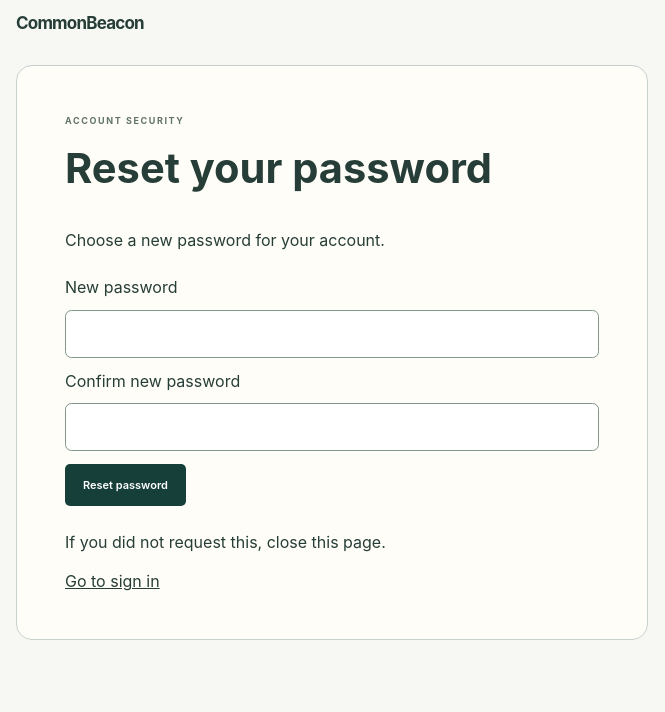
Test: reset requires matching bounded passwords and passes them only after submission
Type "new-password-123" into the password field labelled "New password" at (332, 334), box [65,310,599,358]
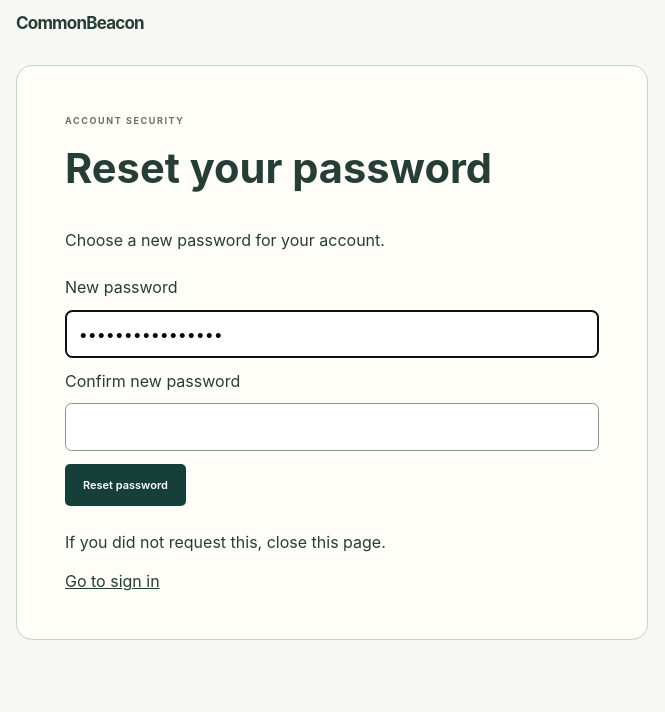
Type "other-password-123" into the password field labelled "Confirm new password" at (332, 427), box [65,403,599,451]
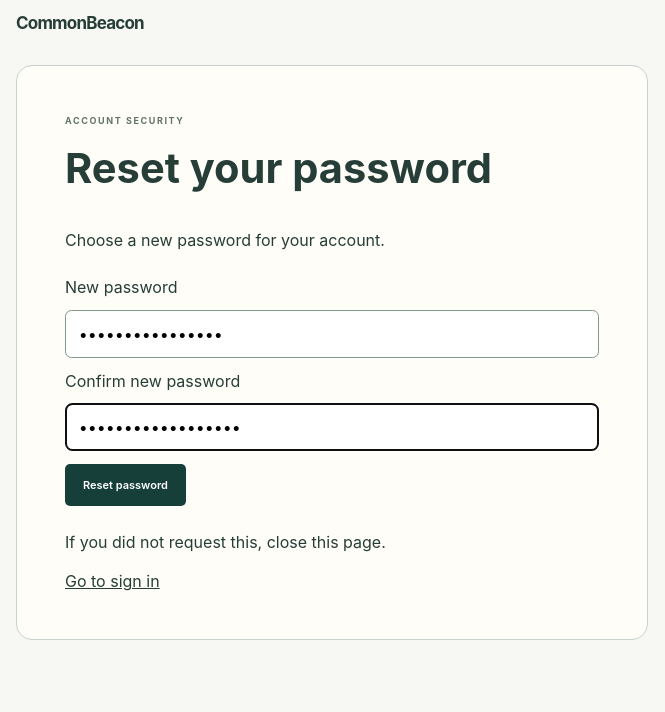
Click the button "Reset password" at (125, 485), box [65,464,186,506]
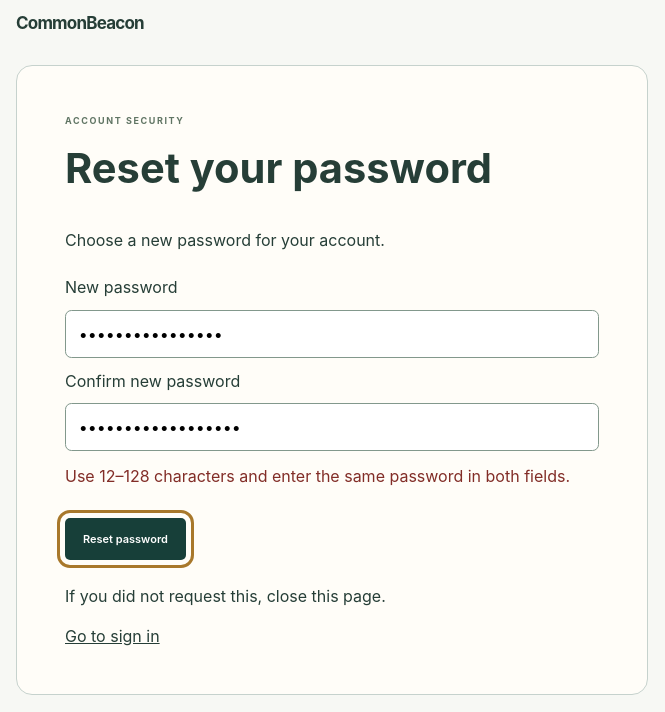
Check: the message shows "same password", box [65,466,570,486]
Type "new-password-123" into the password field labelled "Confirm new password" at (332, 427), box [65,403,599,451]
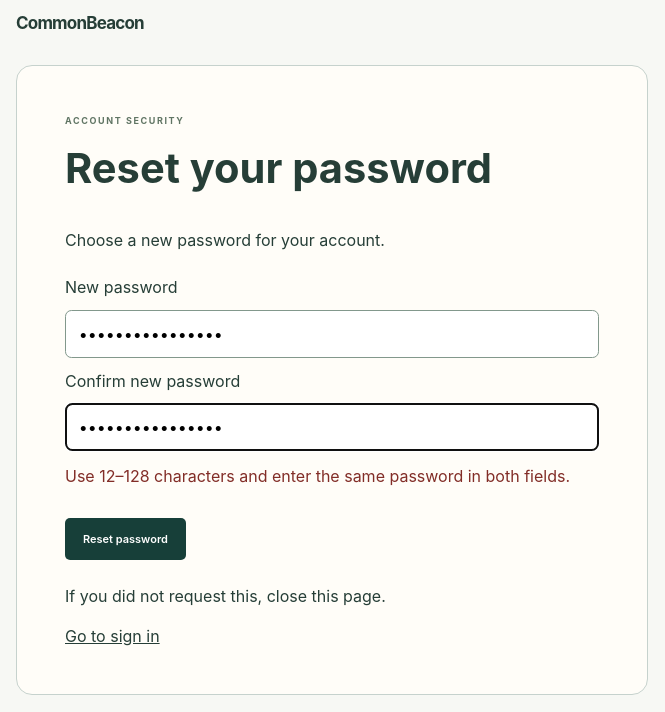
Click the button "Reset password" at (125, 539), box [65,518,186,560]
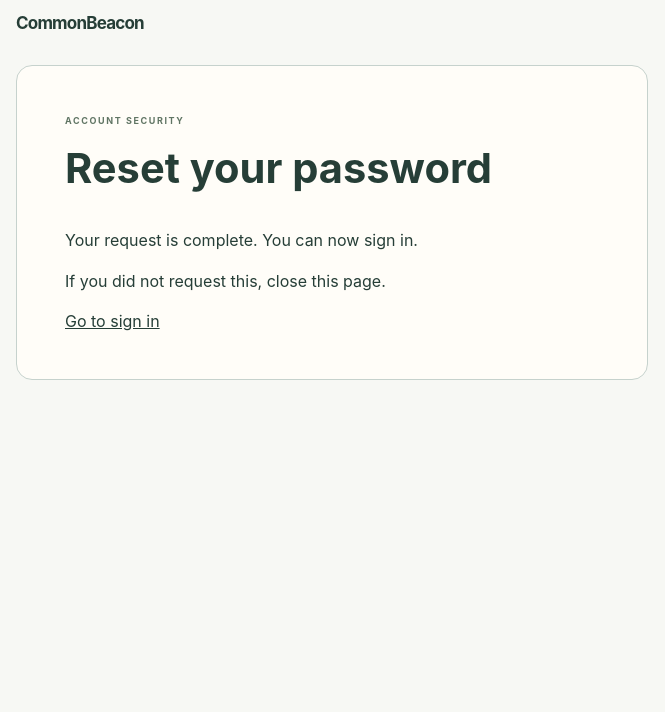
Check: the message "Your request is complete. You can now sign in." is shown, box [65,230,418,250]
